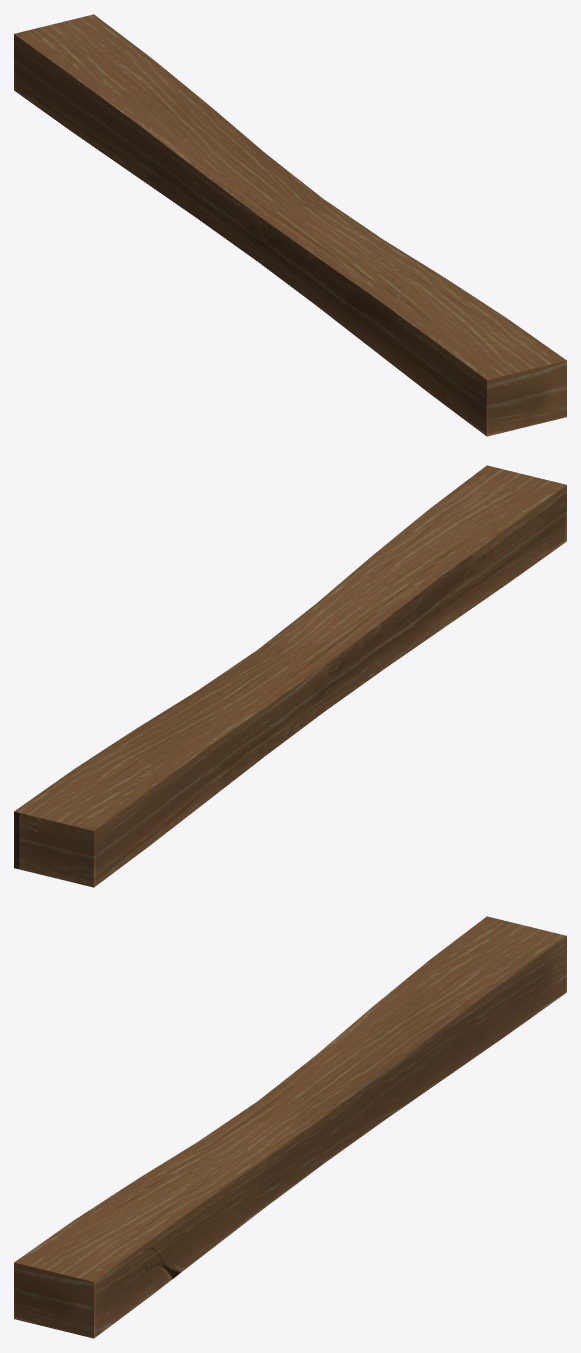
File: SM_poutre_Top.fbx
The picture shows the model from 3 angles, top to bottom: view 1: azimuth 30°, elevation 25°; view 2: azimuth 150°, elevation 25°; view 3: azimuth 330°, elevation 25°; orthographic projection.
Parts seen in each view (by area): view 1: SM_poutre_Top; view 2: SM_poutre_Top; view 3: SM_poutre_Top.
Boxes of the visible parts, box(x1,y1,x2,y2) form: SM_poutre_Top: box(14, 14, 566, 436); SM_poutre_Top: box(14, 465, 566, 887); SM_poutre_Top: box(14, 916, 566, 1338).
Bounding box in the file's own units: 0.5903 × 0.3987 × 6.04.
